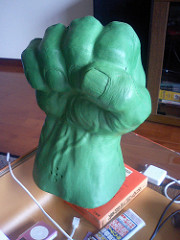fist: (26, 21, 141, 144)
